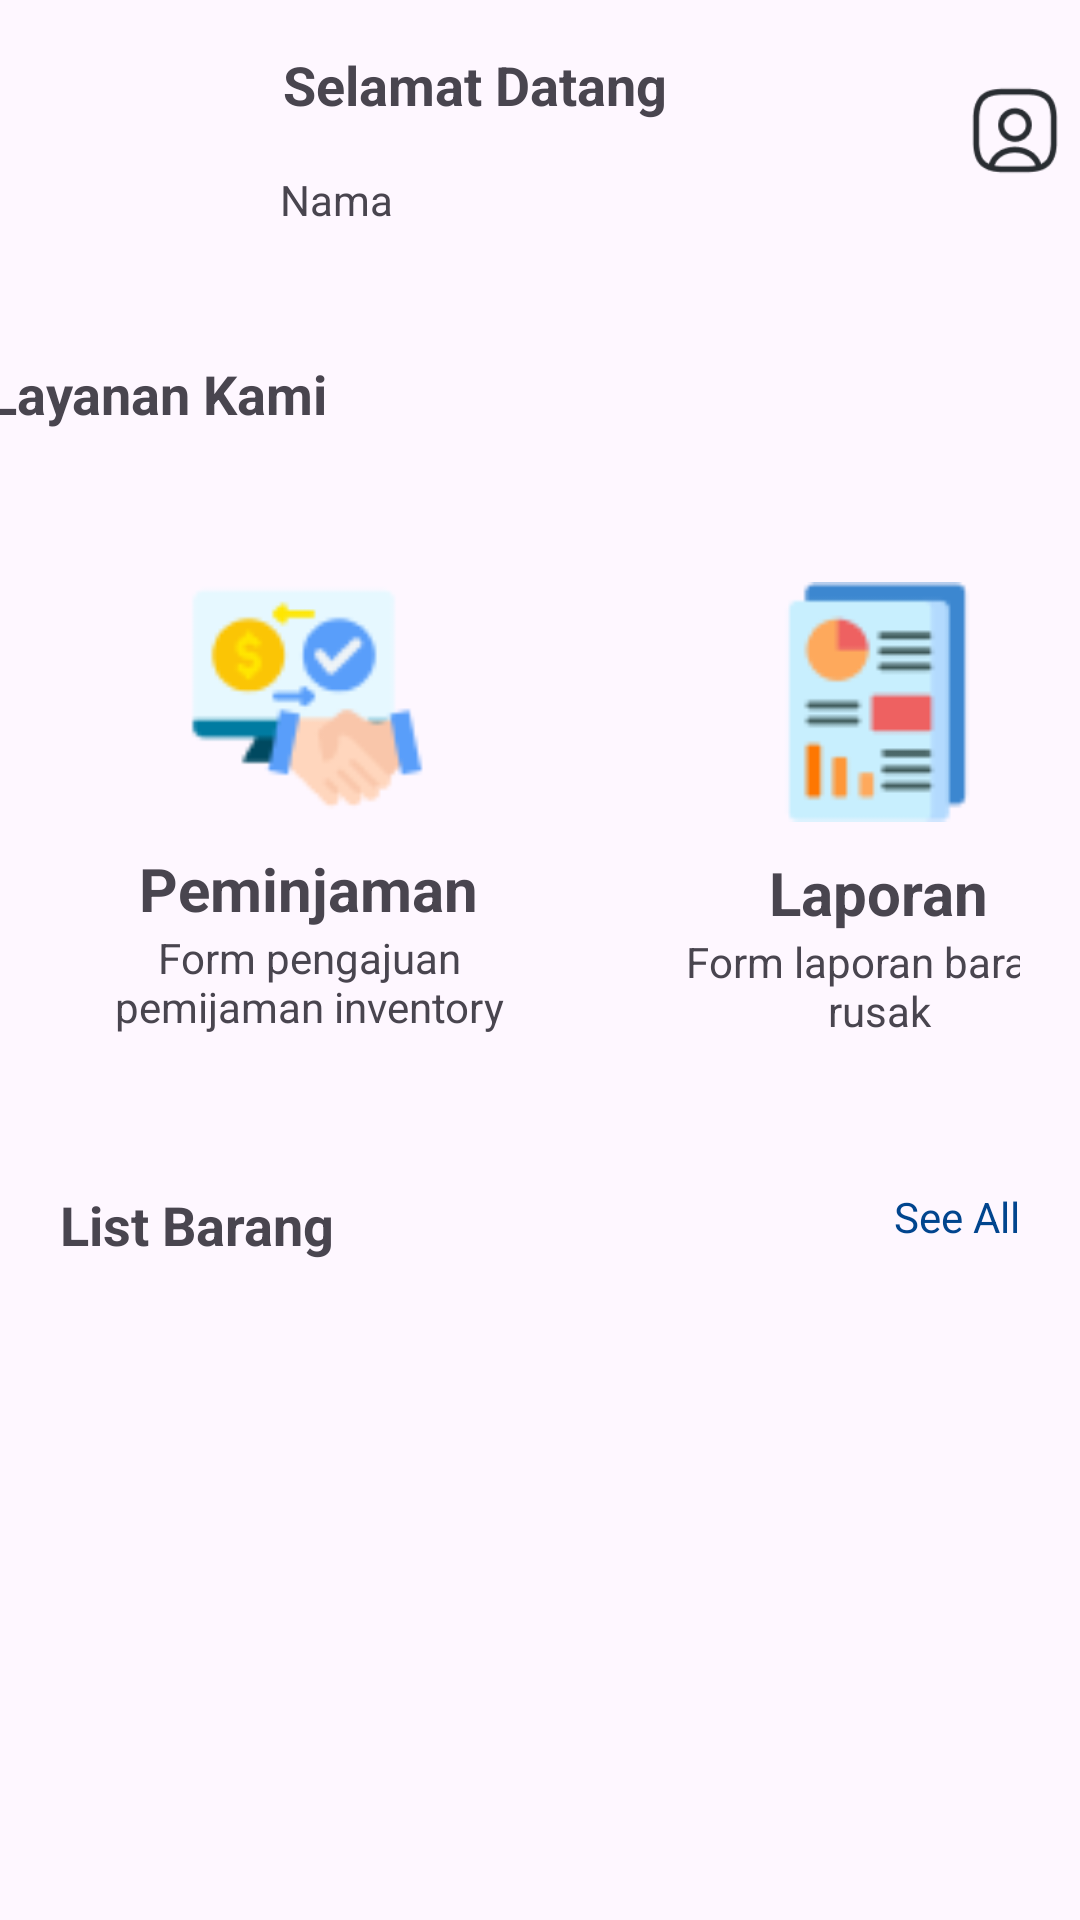

Icons on this 1080px x 1920px Android screen, each with its box as detection(x1, y1, x2, y2):
user square: detection(972, 88, 1058, 173)
